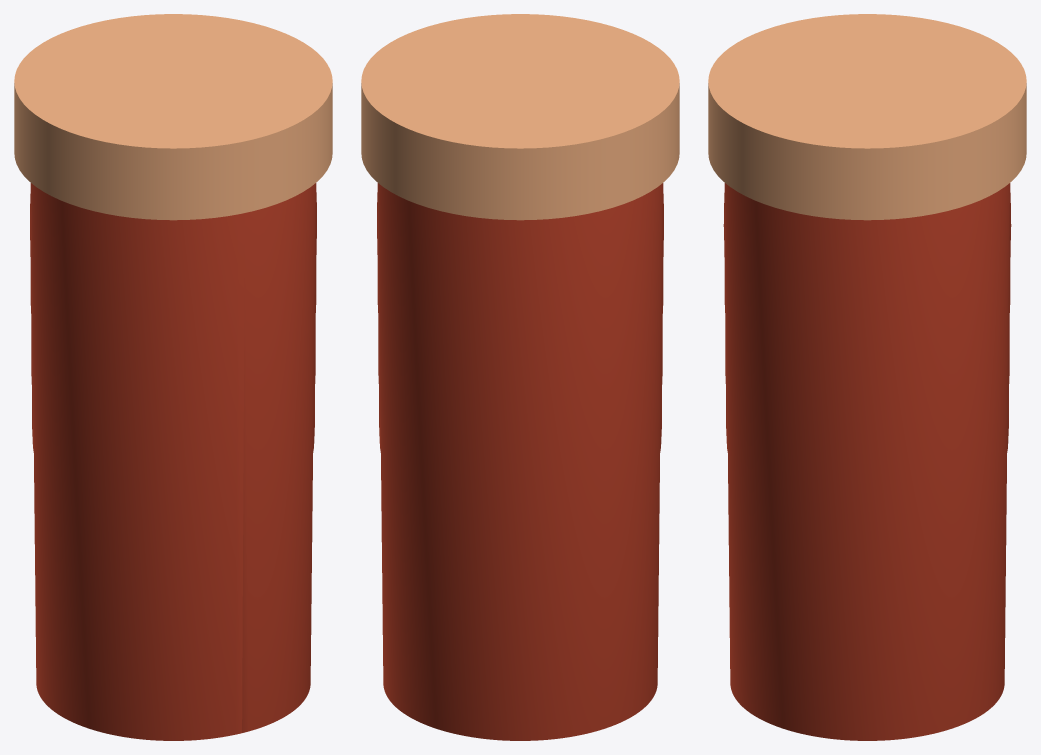
Rendered from stanley-iceflow-30-bodyfit-v3.glb.
3 views of the same model, side by side, from view 1: azimuth 30°, elevation 25°; view 2: azimuth 150°, elevation 25°; view 3: azimuth 270°, elevation 25° (orthographic).
Visible parts, largest first — view 1: body_mesh, rim_mesh; view 2: body_mesh, rim_mesh; view 3: body_mesh, rim_mesh.
Boxes of the visible parts, bbox=[...] form: body_mesh: bbox=[30, 183, 316, 740]; rim_mesh: bbox=[14, 14, 332, 220]; body_mesh: bbox=[377, 183, 663, 740]; rim_mesh: bbox=[361, 14, 679, 220]; body_mesh: bbox=[723, 183, 1011, 740]; rim_mesh: bbox=[708, 14, 1026, 220].
Bounding box in the file's own units: 88.52 × 185 × 88.52.
